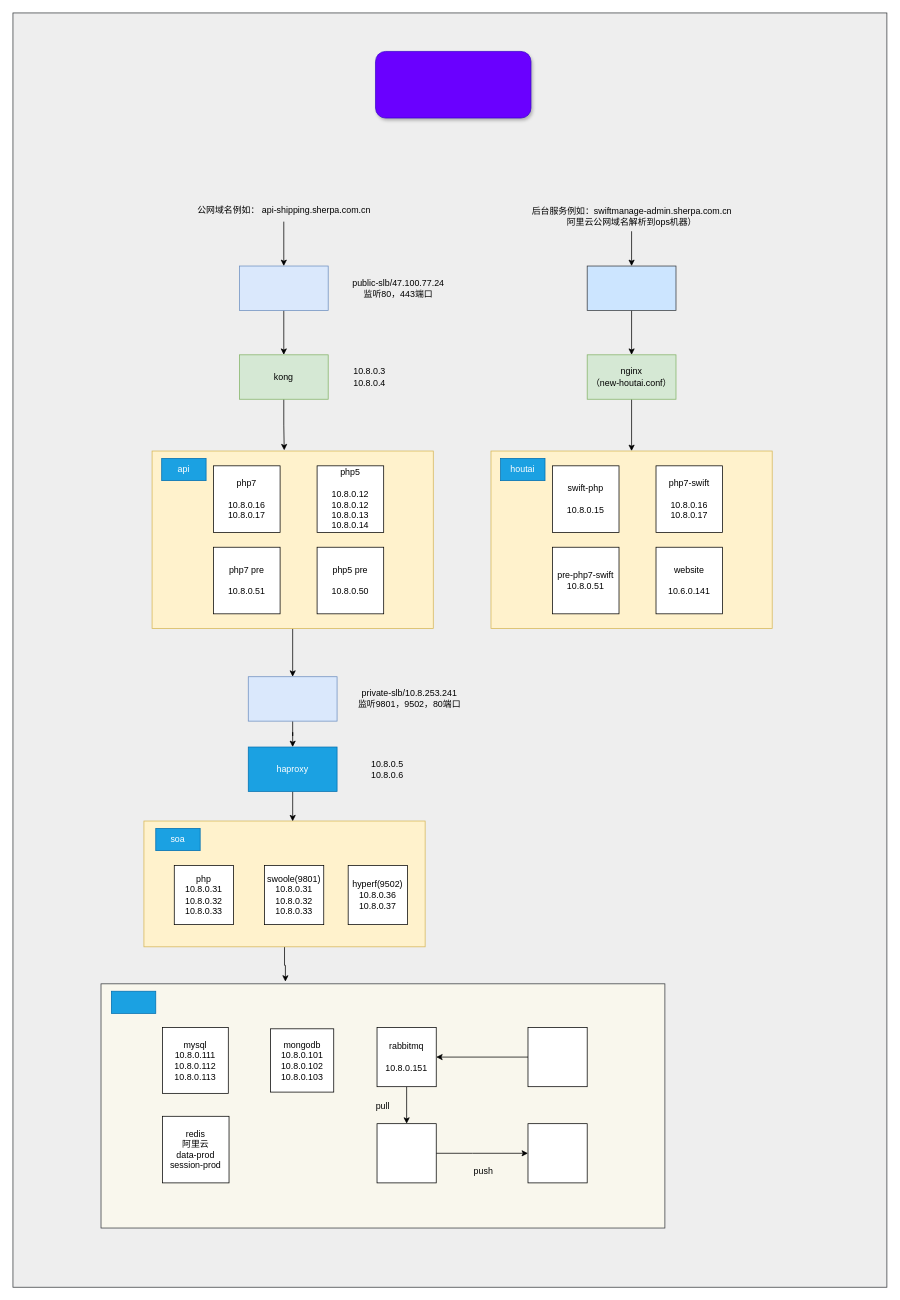
The diagram is 900 pixels wide and 1300 high, and some of its shapes have lost their labels. The centre of each missing label's shape, as x and y in pixels:
"app" goes at (133,1001).
"logstash 10.8.0.191" goes at (406,1153).
"mongodb log 10.8.0.191" goes at (557,1153).
"ops（10.8.0.1）" goes at (631,287).
"supervisor 10.8.0.34 10.8.0.35" goes at (557,1057).
"swift 架构" goes at (453,85).
"阿里云公网负载" goes at (283,287).
"阿里云私网负载" goes at (292,698).
